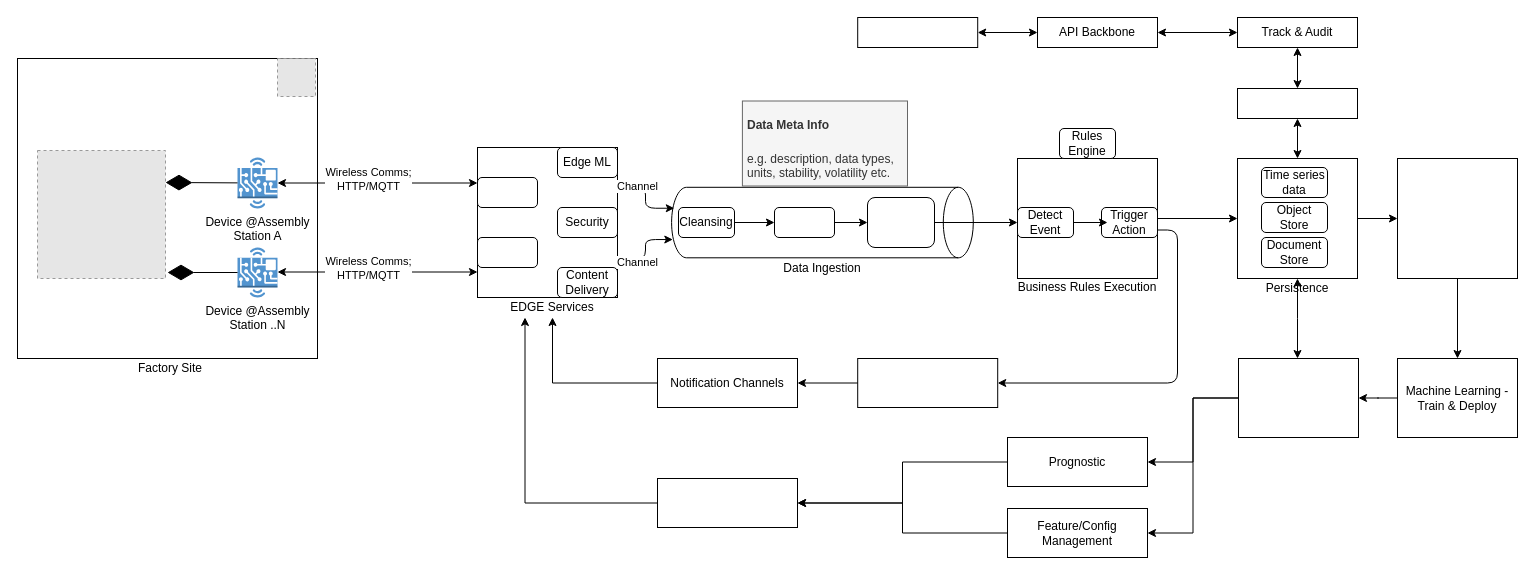
The diagram is 1535 pixels wide and 575 high, and some of its shapes have lost their labels. Grey dashed boxes stand in for pictures. Each missing label, with the box of its shape:
API Gateway: (857, 16, 978, 48)
Collect Metadata: (774, 206, 834, 238)
Content Delivery Channels: (656, 478, 798, 528)
Data Enrichment: (1236, 88, 1358, 118)
Data lake: (1396, 158, 1518, 278)
DigitalTwin: (1238, 358, 1358, 438)
Event Handler: (857, 358, 998, 408)
Payload Transform: (476, 236, 538, 268)
Routing: (476, 176, 538, 208)
Tagging; Publish: (866, 196, 934, 248)
